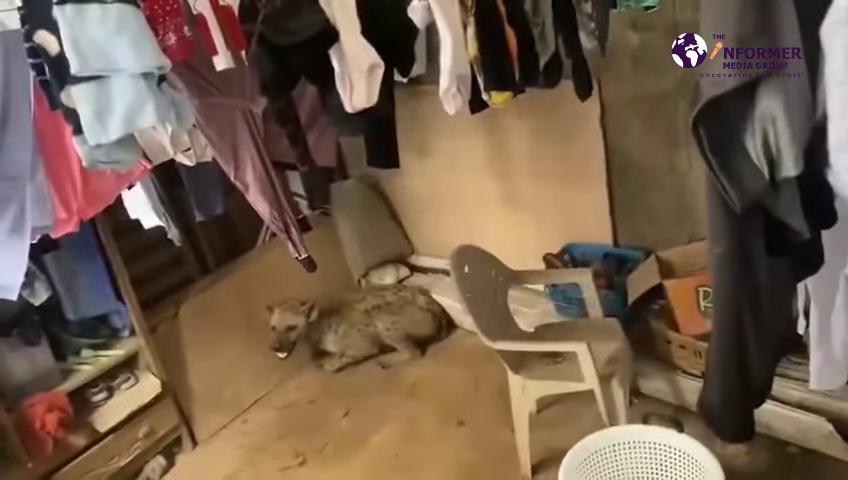hyenas: (249, 270, 453, 375)
